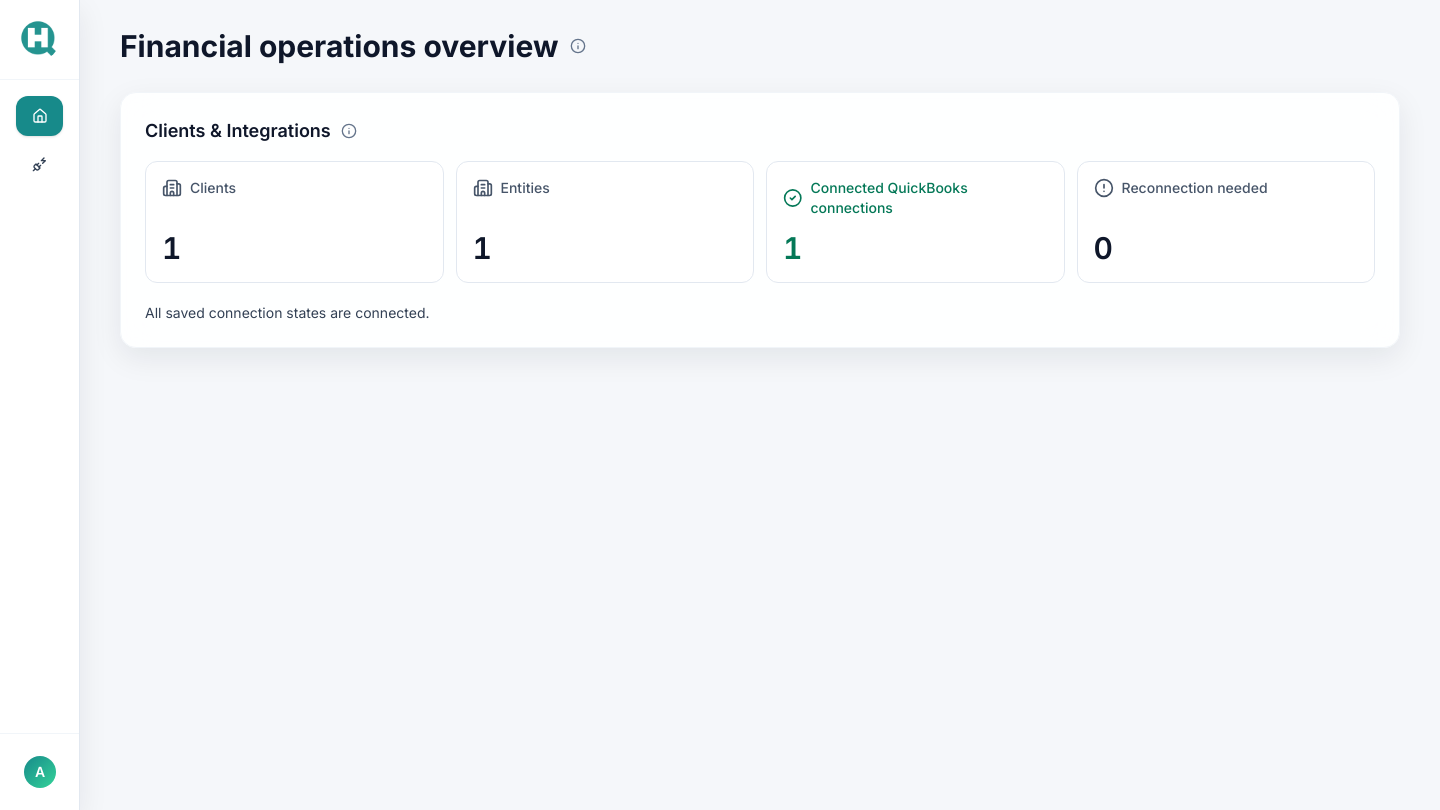
Dashboard › keeps the session and confirmation visible when server sign out fails
Expected: the text "Entities" is shown, [472,178,550,198]
Click the button named "Account options" at (40, 772), box [12,746,67,798]
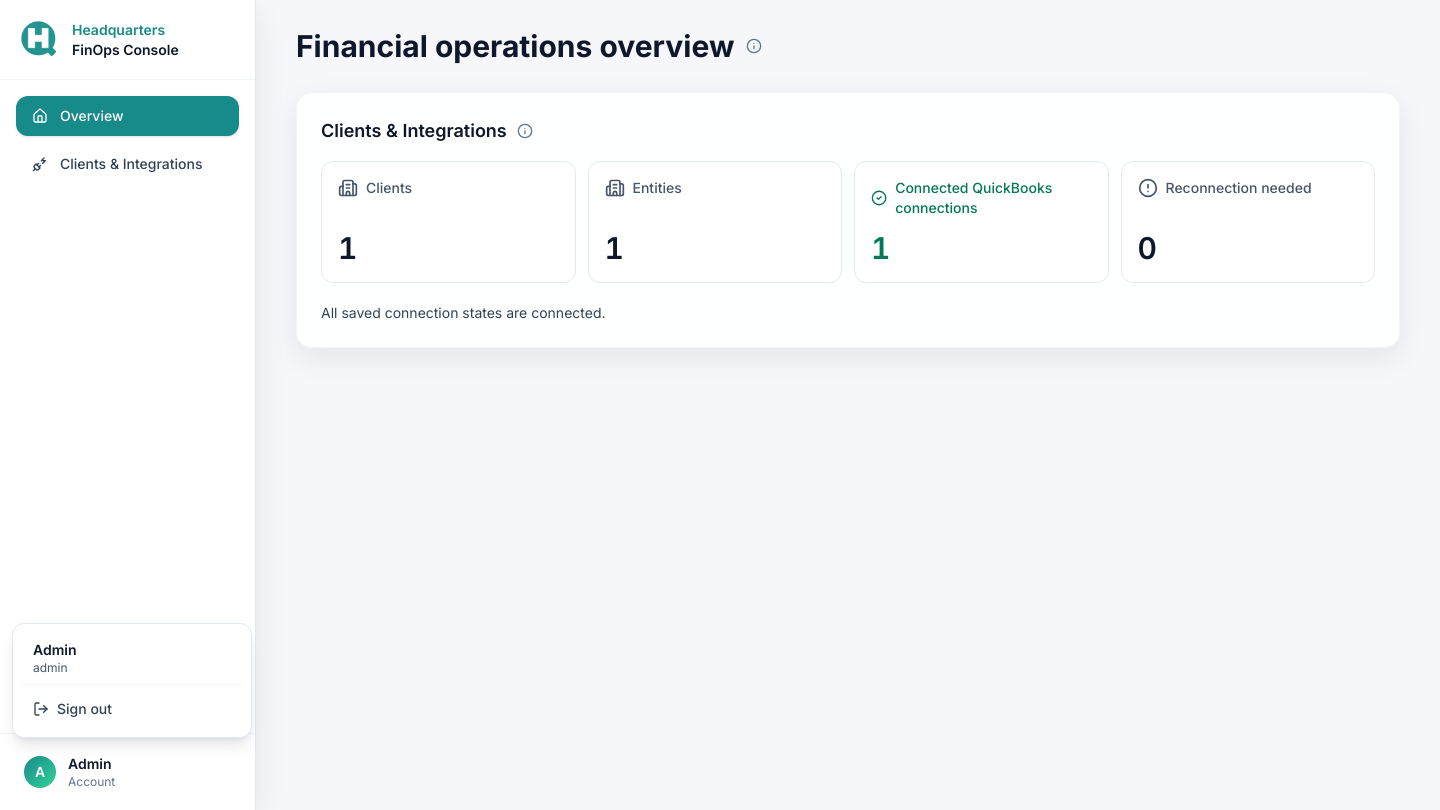
Click the button "Sign out" at (132, 709), box [21,689,243,729]
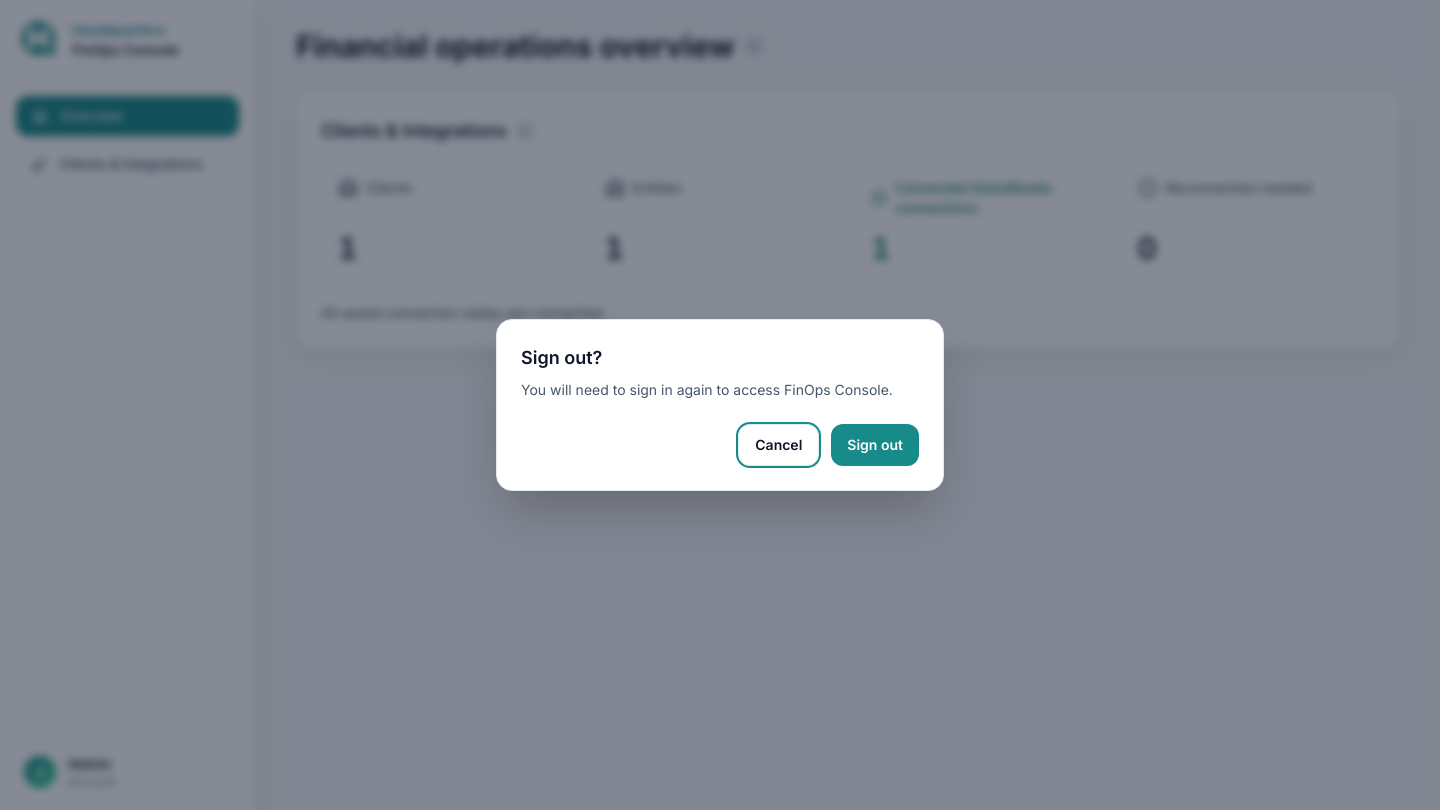
Click the button "Sign out" at (875, 445), box [831,424,919,466]
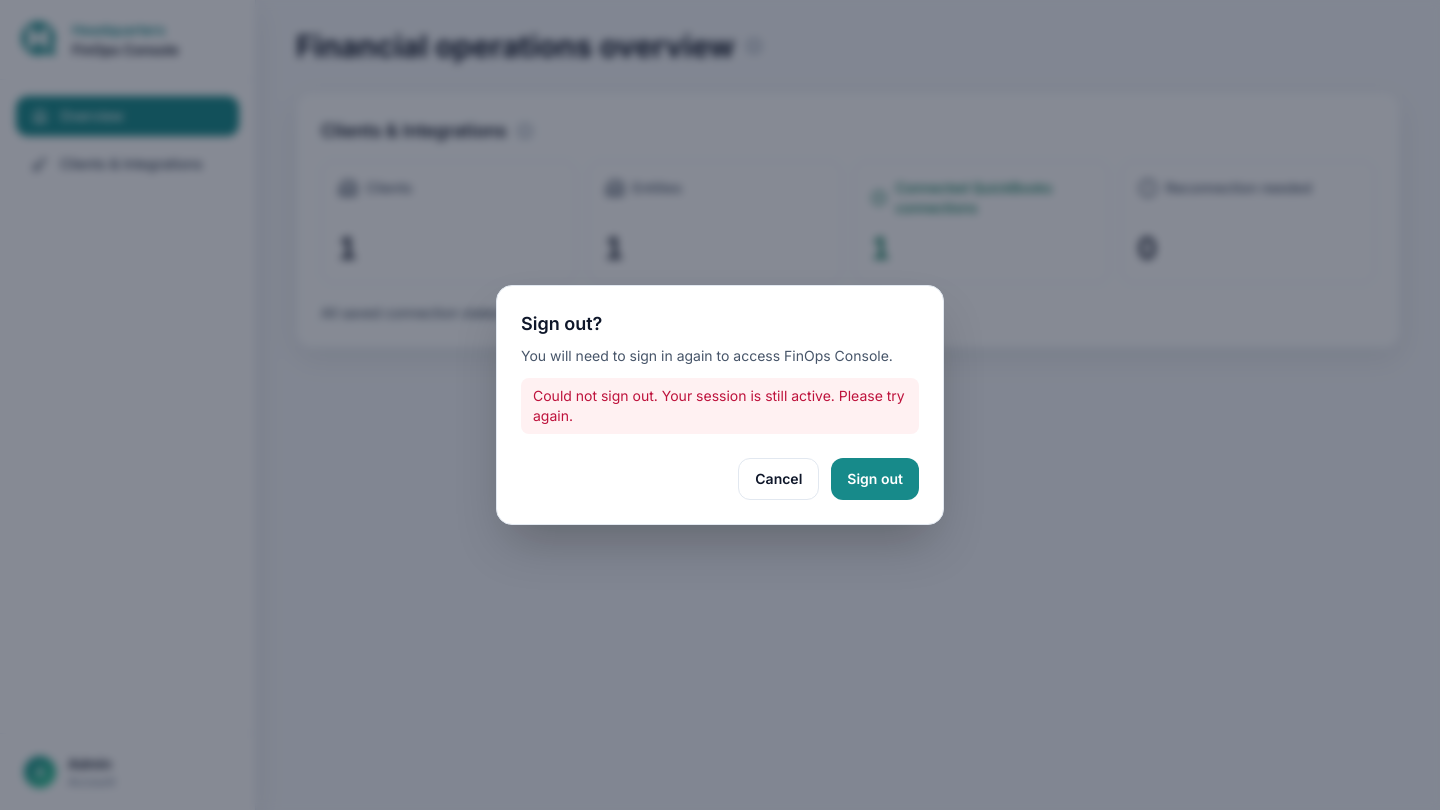
Expected: the button with aria-label "Account options" is shown, [12,746,243,798]
Now the dialog "Sign out?" is shown, box [496,285,944,525]
Now the message shows "Your session is still active", box [533,387,905,424]
